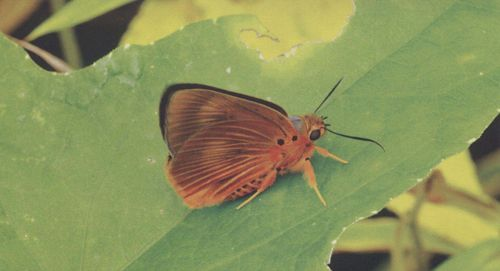Hesperiidae: (160, 74, 389, 215)
